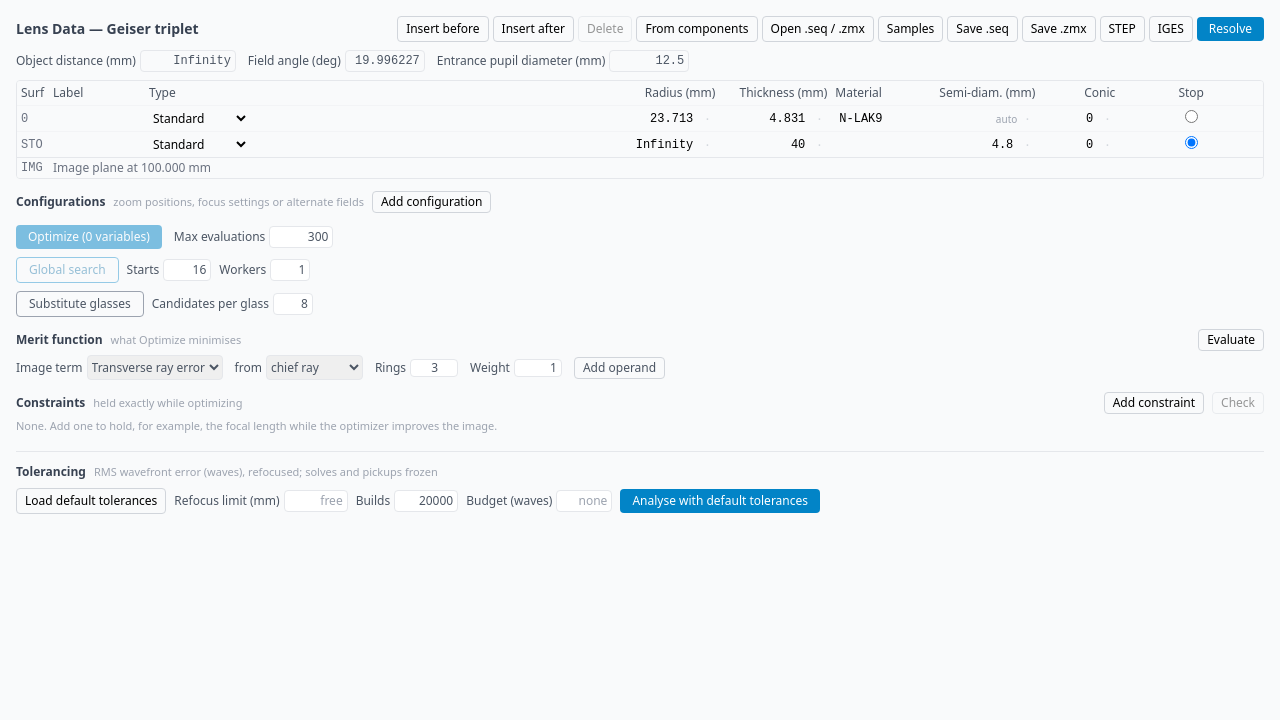
Test case: sample lenses › opens a sample, resolves it and shows its source
Click the button "Samples".
click(911, 29)  # box x1=878 y1=16 x2=943 y2=42
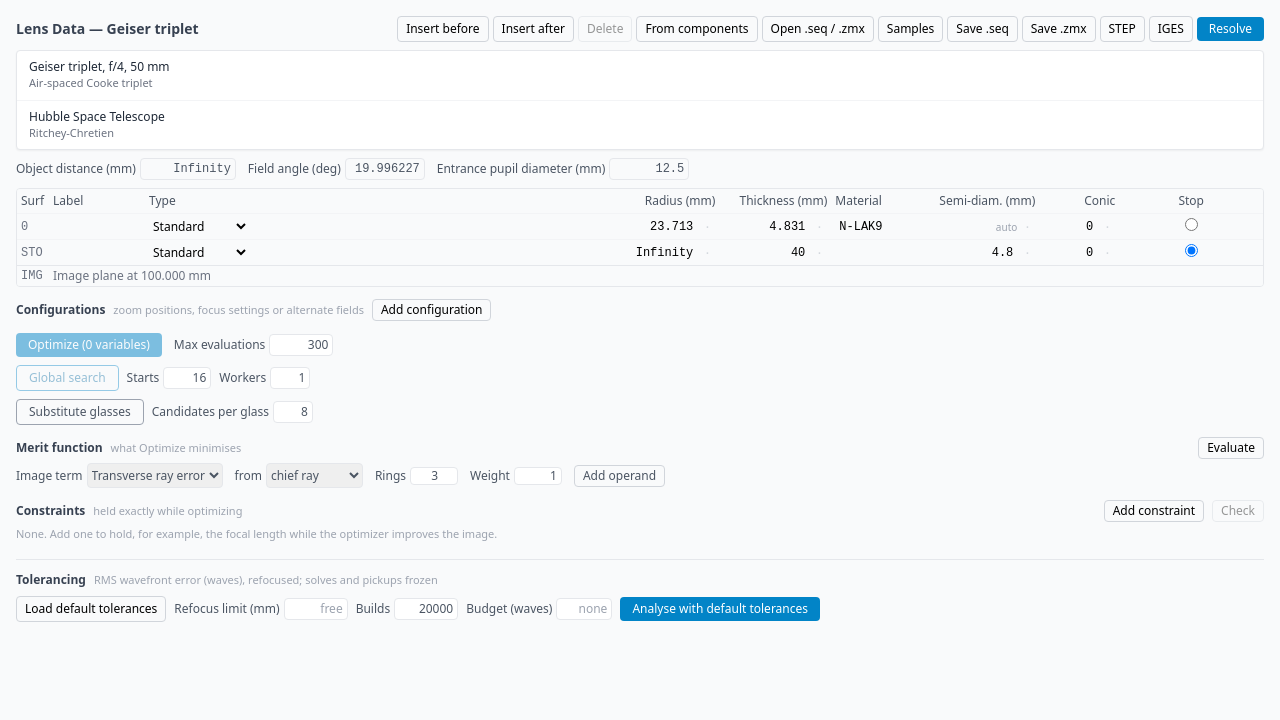
expect the menu is shown: met, box x1=16 y1=50 x2=1264 y2=150
Click the text "Geiser triplet, f/4, 50 mm".
click(99, 66)  # box x1=29 y1=58 x2=170 y2=75
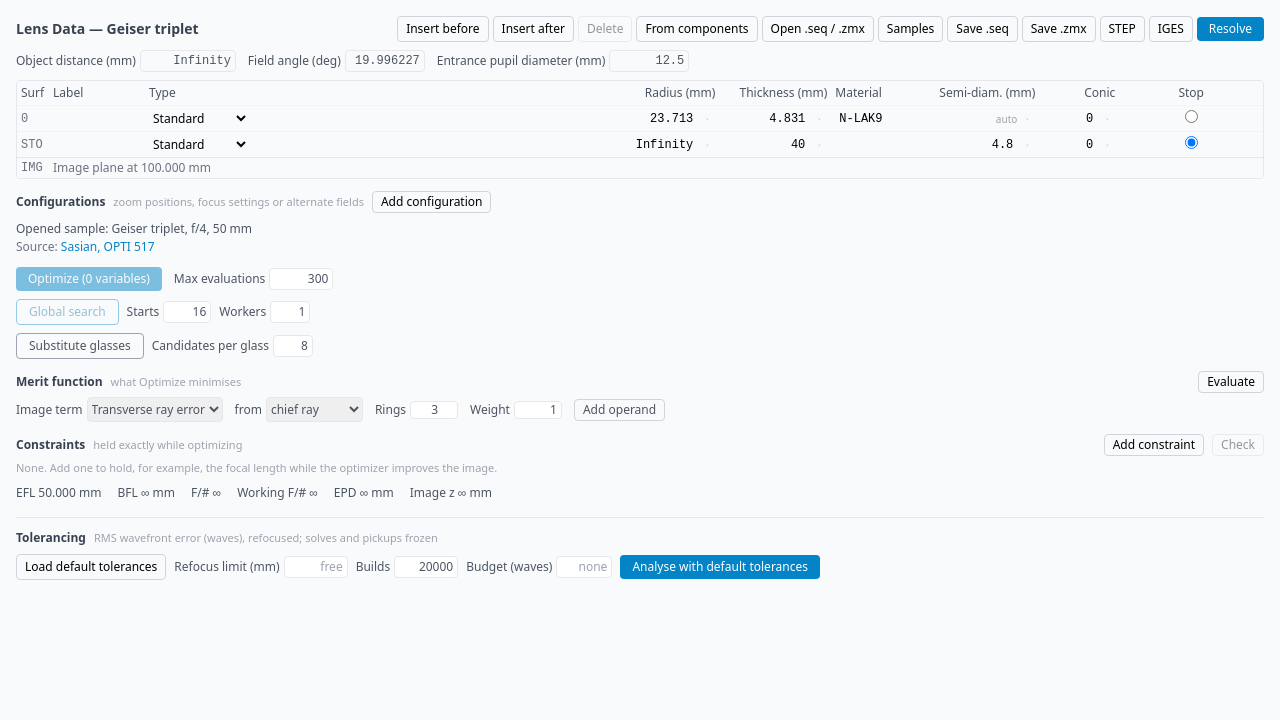
expect the element with test id "file-note" shows "Opened sample: Geiser triplet": met, box x1=16 y1=220 x2=252 y2=237
